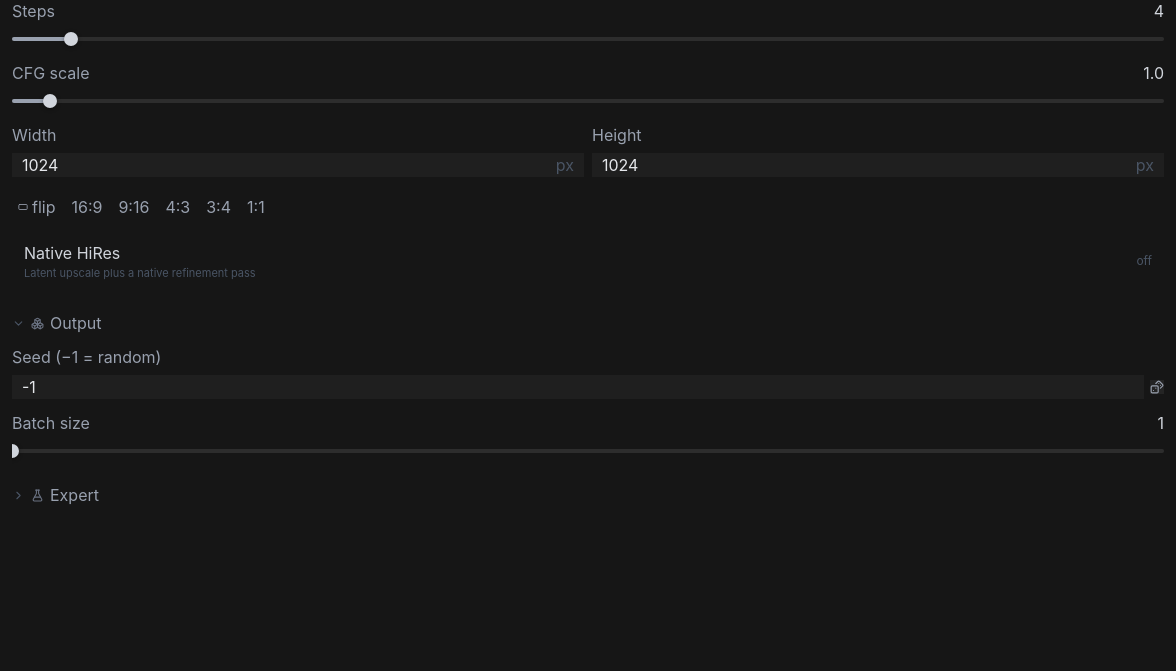
Test: the LoRA stack and the MiniMax H3 turbo LoRA › only LoRAs of other families in the folder: the stack says so instead of showing an empty list
The image size is (1176, 671).
Click the button "Expert" at (56, 495), box left=12, top=483, right=99, bottom=507
(page scrolled)
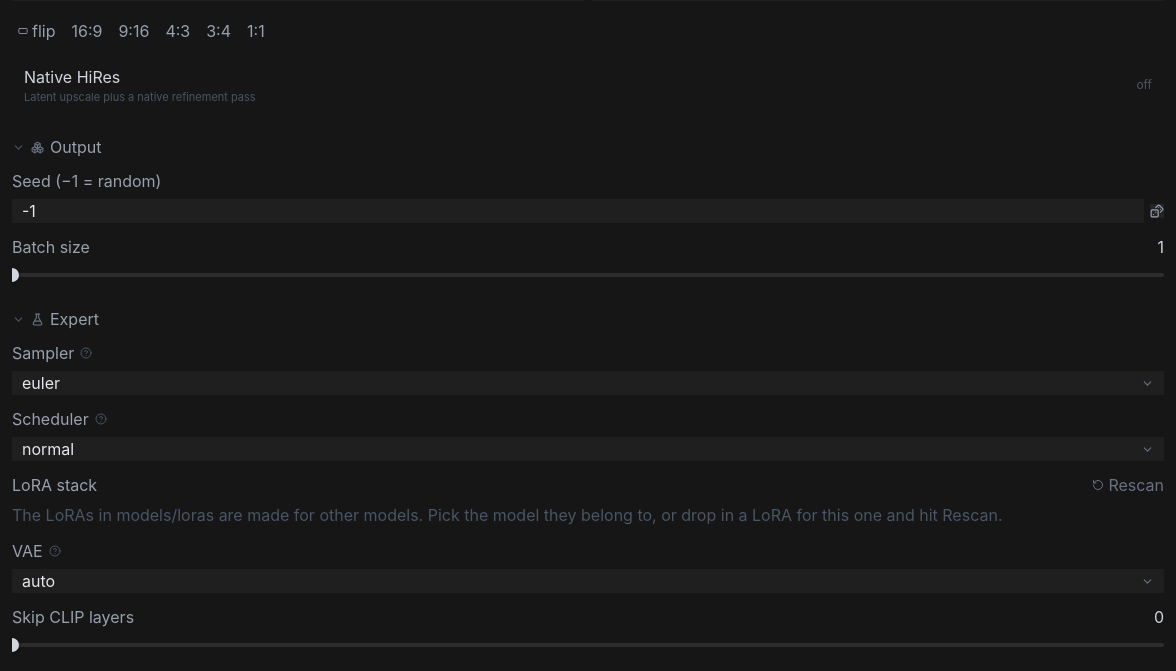
Check: the text "The LoRAs in models/loras are made for other models." is shown, box left=12, top=503, right=1164, bottom=527
